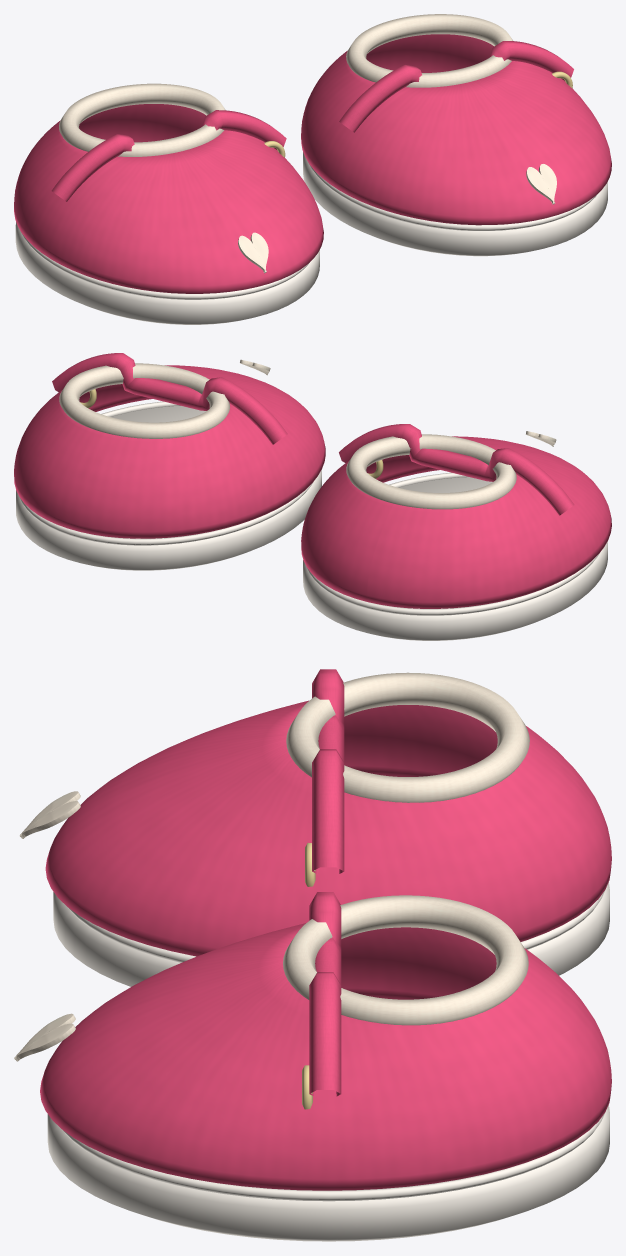
The model's file is restart_shoes_chic_bear.glb.
The picture shows the model from 3 angles, top to bottom: view 1: azimuth 30°, elevation 25°; view 2: azimuth 150°, elevation 25°; view 3: azimuth 270°, elevation 25°; orthographic projection. The views are drawn at different scales.
Visible parts, largest first — view 1: Calzado · Left · shoes_chic.001, Calzado · Right · shoes_chic.001; view 2: Calzado · Left · shoes_chic.001, Calzado · Right · shoes_chic.001; view 3: Calzado · Left · shoes_chic.001, Calzado · Right · shoes_chic.001.
Part boxes in pixels (x1,y1,x2,y2): Calzado · Left · shoes_chic.001: [301, 14, 611, 256]; Calzado · Right · shoes_chic.001: [14, 83, 323, 324]; Calzado · Left · shoes_chic.001: [14, 353, 325, 570]; Calzado · Right · shoes_chic.001: [301, 424, 611, 640]; Calzado · Left · shoes_chic.001: [14, 892, 611, 1241]; Calzado · Right · shoes_chic.001: [19, 669, 611, 986].
Bounding box in the file's own units: 0.5556 × 0.1328 × 0.3347.
Materials: 4 (2 with a texture image).
